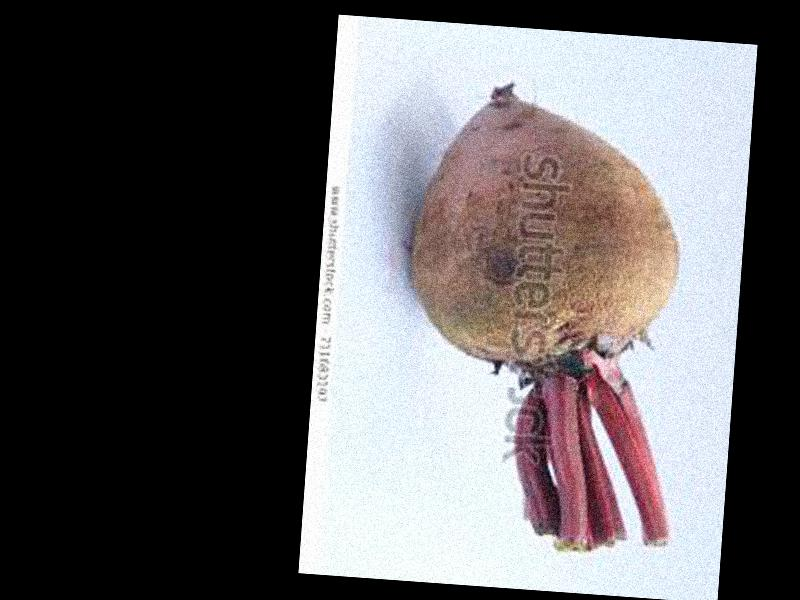Beet: (392, 84, 694, 549)
